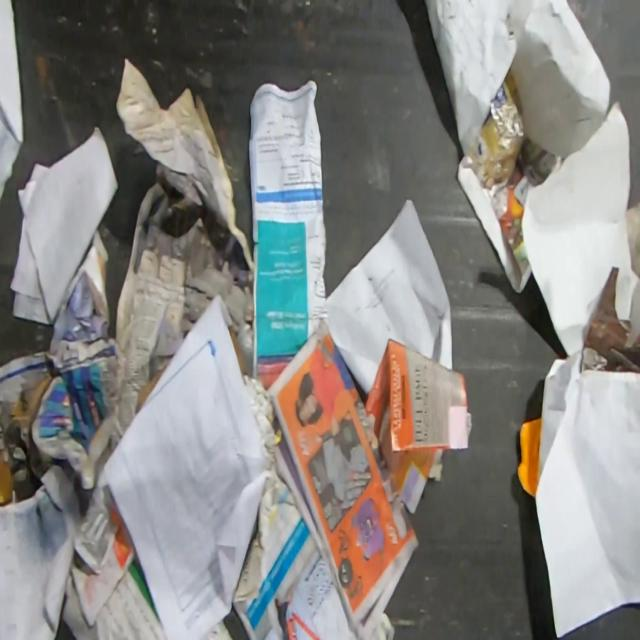cardboard: (134, 357, 172, 415), (228, 325, 249, 377)
soft_plastic: (0, 455, 14, 506)
